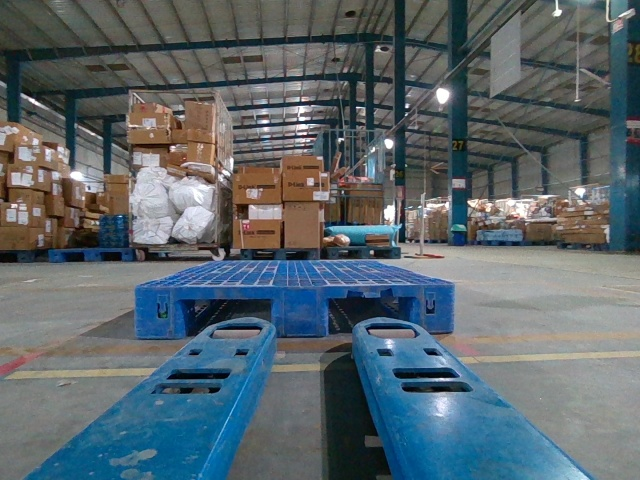block: (269, 286, 327, 339), (138, 288, 188, 339), (415, 285, 453, 332)
front: (135, 284, 453, 336)
hole pallet: (324, 297, 412, 336), (183, 299, 271, 337)
